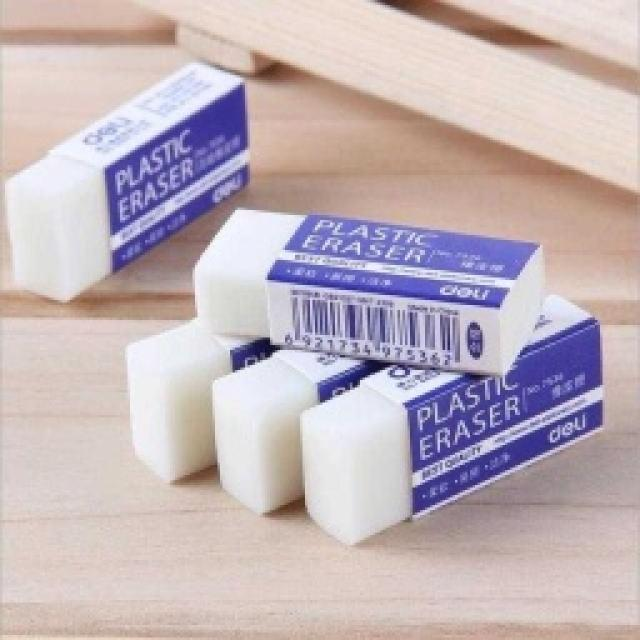Silgi: (193, 204, 547, 376)
